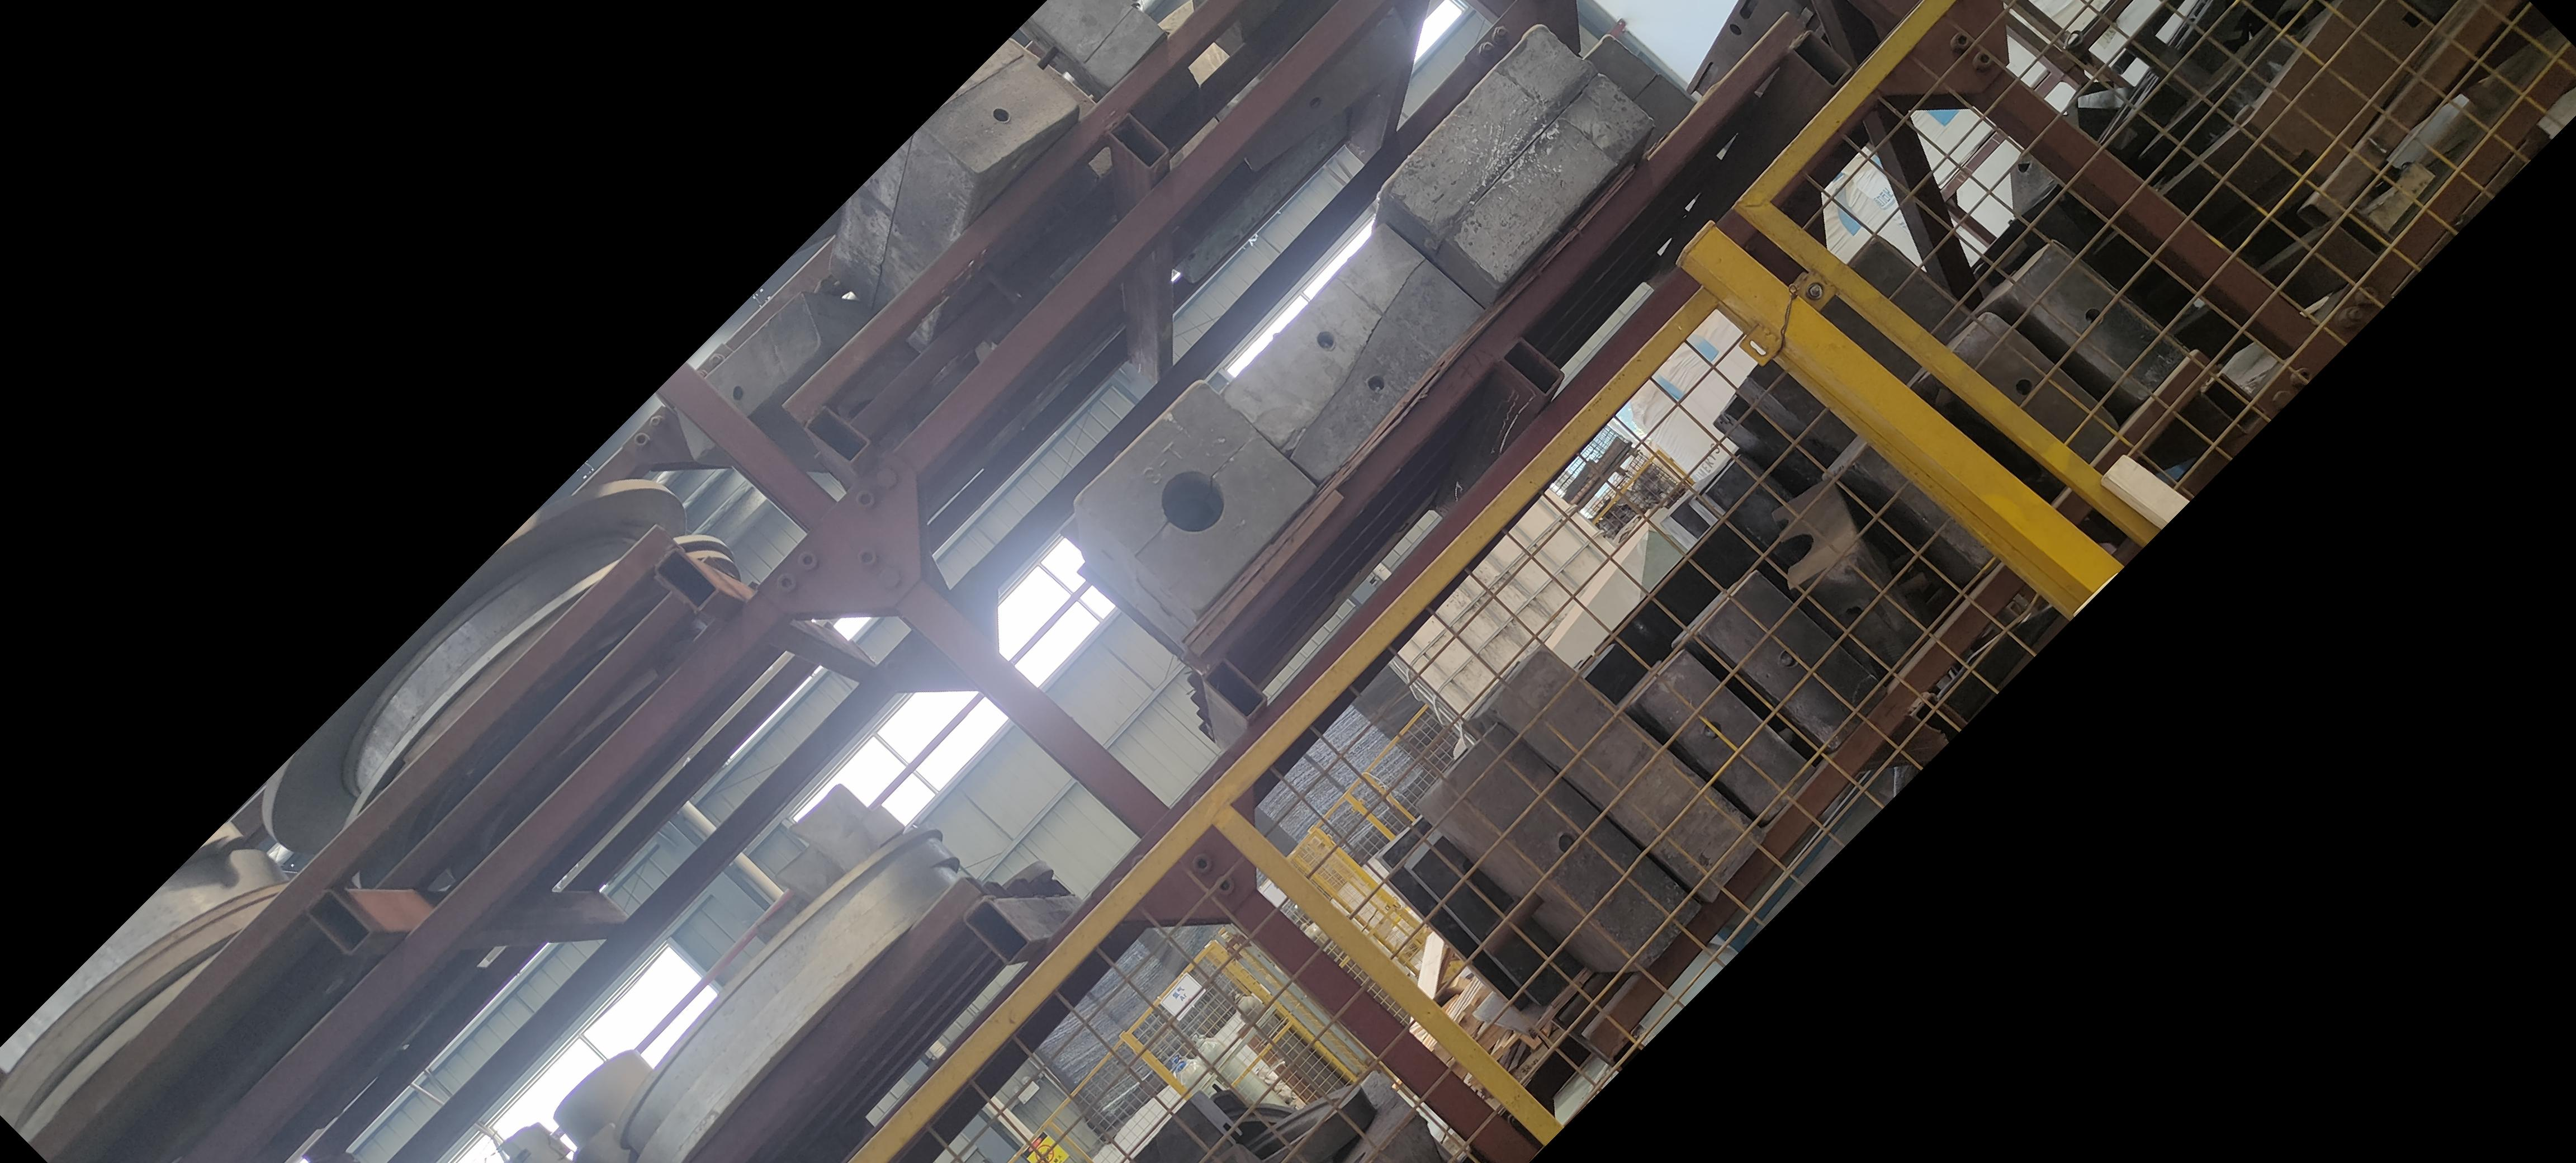pouring hole: (1161, 471, 1226, 532)
